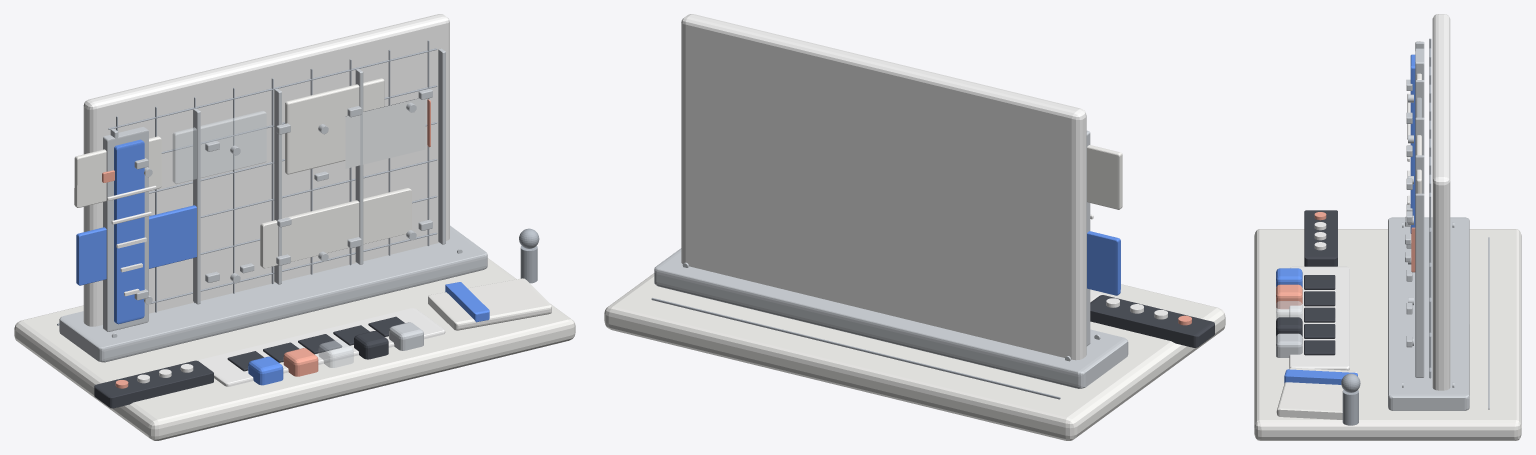
File: structure.glb
The picture shows the model from 3 angles, left to right: view 1: azimuth 30°, elevation 25°; view 2: azimuth 150°, elevation 25°; view 3: azimuth 270°, elevation 25°; orthographic projection. The views are drawn at different scales.
Visible parts, largest first — view 1: STR_grid_board, STR_console, STR_board_base, STR_panel_4, STR_panel_2, STR_type_ruler, STR_panel_1, STR_panel_3, SCREEN_structure_system, GLASS_structure_system, STR_booklet, STR_token_dock (+18 smaller); view 2: STR_grid_board, STR_console, STR_board_base, STR_control_strip, STR_panel_0, STR_panel_3, STR_console_seam, STR_ruler_track; view 3: STR_console, STR_board_base, STR_grid_board, STR_token_dock, STR_booklet, STR_mount_rail_4, STR_control_strip, STR_type_ruler, STR_booklet_band, STR_token_1, STR_token_4, STR_operator_body (+15 smaller).
Boxes of the visible parts, box(x1,y1,x2,y2) form: STR_grid_board: box(83, 14, 449, 326); STR_console: box(14, 258, 575, 440); STR_board_base: box(59, 225, 487, 362); STR_panel_4: box(260, 188, 411, 268); STR_panel_2: box(285, 78, 384, 174); STR_type_ruler: box(114, 139, 144, 324); STR_panel_1: box(172, 111, 266, 184); STR_panel_3: box(76, 205, 196, 285); SCREEN_structure_system: box(345, 98, 425, 168); GLASS_structure_system: box(346, 99, 425, 168); STR_booklet: box(428, 278, 551, 330); STR_token_dock: box(198, 308, 445, 386); STR_grid_board: box(681, 14, 1086, 360); STR_console: box(604, 273, 1225, 440); STR_board_base: box(654, 248, 1128, 388); STR_control_strip: box(1090, 295, 1214, 347); STR_panel_0: box(1087, 145, 1122, 209); STR_panel_3: box(1087, 231, 1120, 295); STR_console_seam: box(651, 298, 1060, 399); STR_ruler_track: box(1086, 130, 1090, 345); STR_console: box(1254, 229, 1521, 440); STR_board_base: box(1388, 217, 1469, 410); STR_grid_board: box(1432, 14, 1450, 390); STR_token_dock: box(1289, 266, 1349, 370); STR_booklet: box(1276, 367, 1357, 419); STR_mount_rail_4: box(1415, 193, 1424, 377); STR_control_strip: box(1304, 210, 1337, 266); STR_type_ruler: box(1410, 54, 1415, 233); STR_booklet_band: box(1284, 369, 1357, 384); STR_token_1: box(1276, 284, 1302, 309); STR_token_4: box(1276, 333, 1302, 357); STR_operator_body: box(1342, 390, 1358, 425).
Size of the model in its own units: 6.67 by 3.71 by 3.6.
